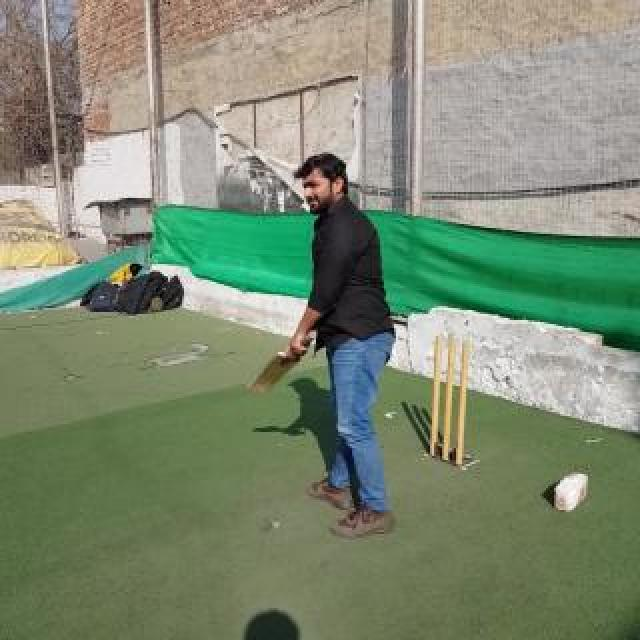bat: (248, 332, 318, 392)
